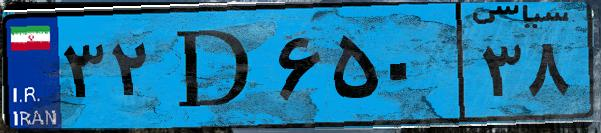0: (385, 28, 445, 110)
2: (110, 28, 158, 98)
3: (57, 26, 110, 100), (475, 38, 525, 113)
5: (330, 28, 385, 110)
6: (270, 28, 330, 110)
8: (525, 38, 570, 115)
D: (158, 12, 270, 120)
